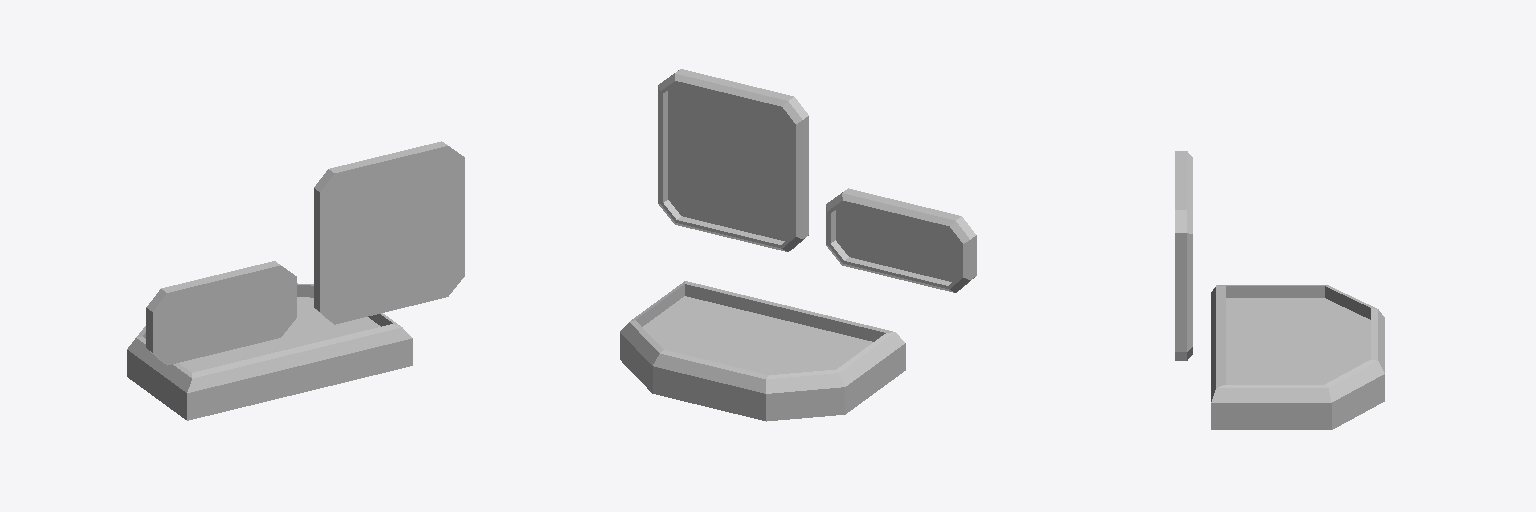
The model's file is left console base.obj.
3 renders of one model, left to right at view 1: azimuth 30°, elevation 25°; view 2: azimuth 150°, elevation 25°; view 3: azimuth 270°, elevation 25°, orthographic.
Parts seen in each view (by area): view 1: Sonar_Top_Cube.002, Left_Base_Cube, Energy_Top_Cube.006; view 2: Left_Base_Cube, Sonar_Top_Cube.002, Energy_Top_Cube.006; view 3: Left_Base_Cube, Sonar_Top_Cube.002.
Boxes of the visible parts, x1=… form: Sonar_Top_Cube.002: x1=314, y1=141, x2=464, y2=324; Left_Base_Cube: x1=127, y1=283, x2=412, y2=420; Energy_Top_Cube.006: x1=146, y1=261, x2=296, y2=365; Left_Base_Cube: x1=620, y1=281, x2=905, y2=421; Sonar_Top_Cube.002: x1=658, y1=69, x2=808, y2=251; Energy_Top_Cube.006: x1=826, y1=188, x2=976, y2=292; Left_Base_Cube: x1=1211, y1=285, x2=1384, y2=429; Sonar_Top_Cube.002: x1=1175, y1=154, x2=1192, y2=360.
Size of the model in its own units: 1.01 by 0.7061 by 0.5868.